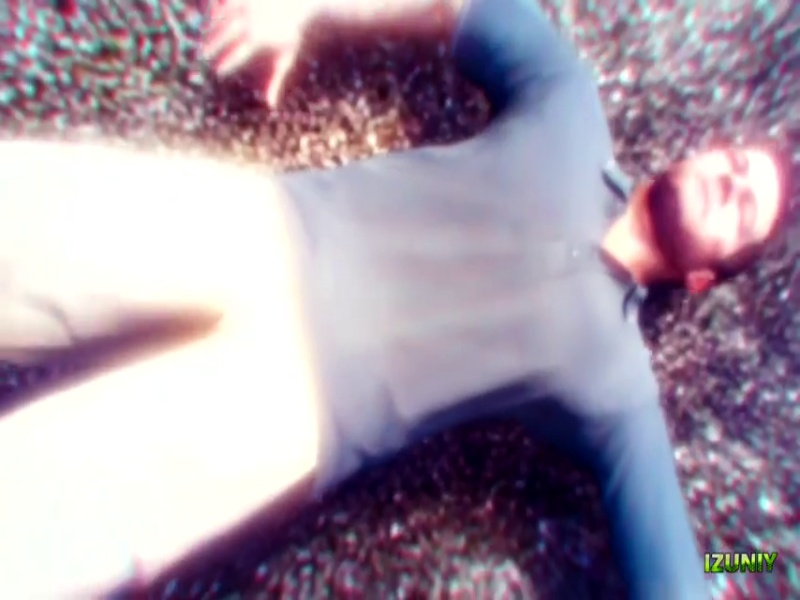human: (0, 0, 779, 600)
